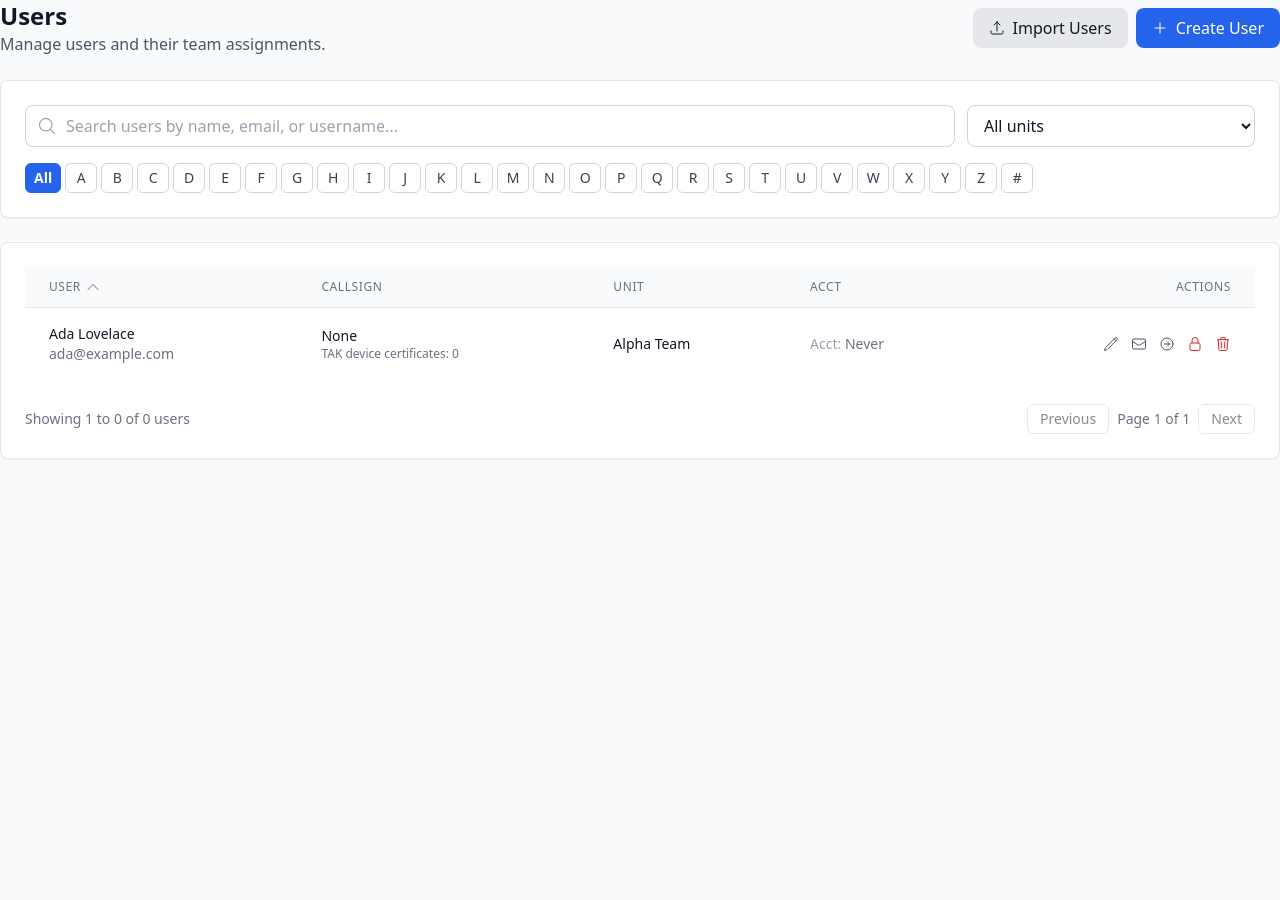
Test: Users row actions (Users-page-action-parity) › opens the shared TransferMemberDialog on Transfer, pre-populated with the row's own team as the source
Click the button named "Transfer member to another team". click: (1167, 344)
box: x1=1159 y1=336 x2=1175 y2=352
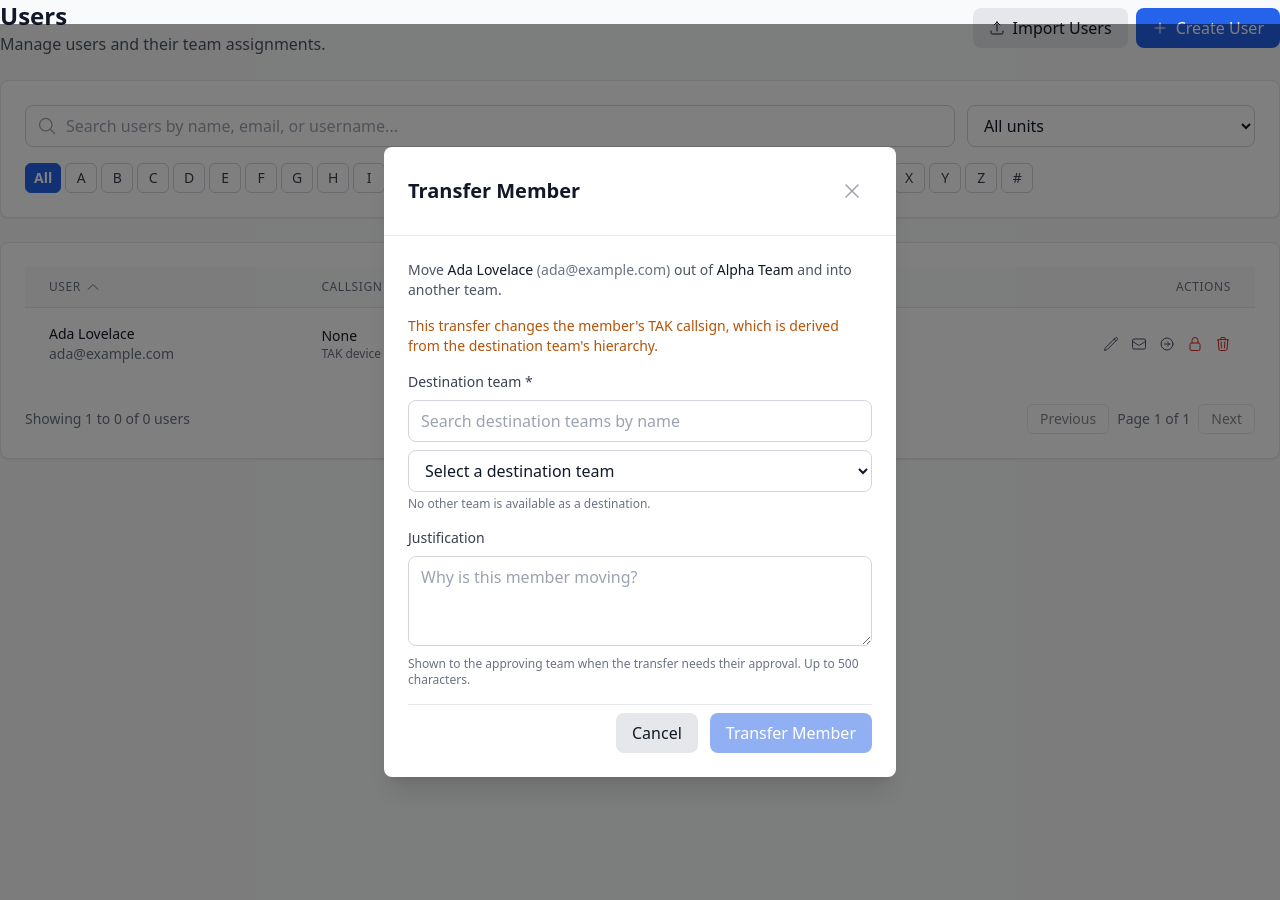
Expected: the text "Alpha Team" is shown, x1=589 y1=308 x2=786 y2=380
Now the dialog is shown, box x1=384 y1=147 x2=896 y2=777
